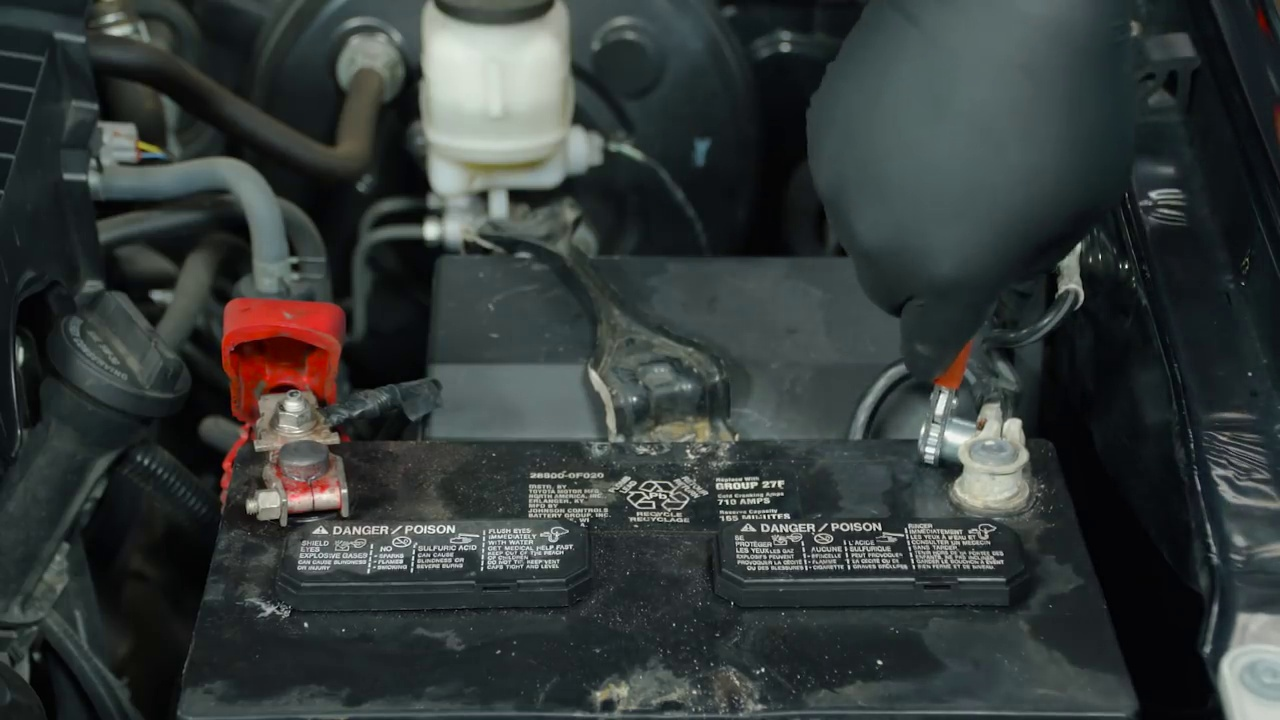battery: (214, 351, 1142, 713)
neg_connected: (943, 354, 1043, 530)
neg_touched: (838, 183, 1069, 520)
pos_connected: (206, 274, 400, 533)
